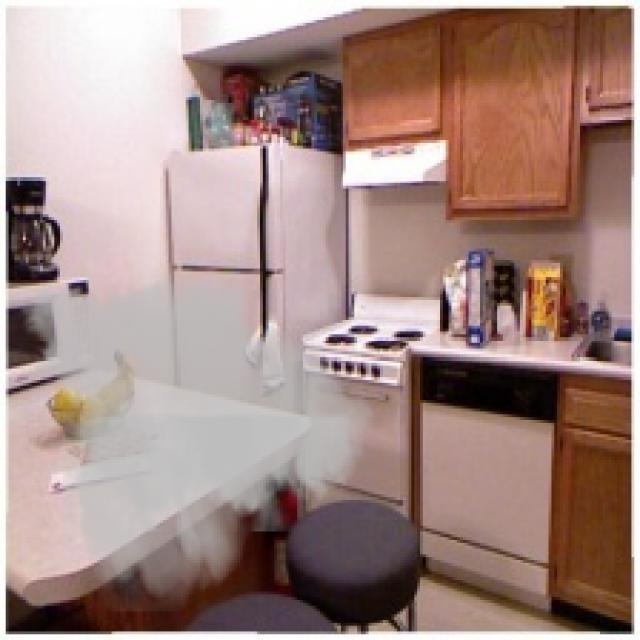Smoke: (6, 263, 386, 612)
